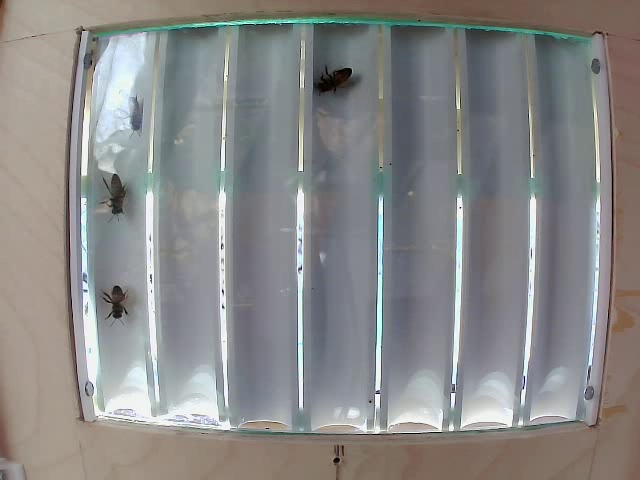bee: (303, 53, 359, 112), (99, 263, 141, 327), (101, 169, 143, 228)
